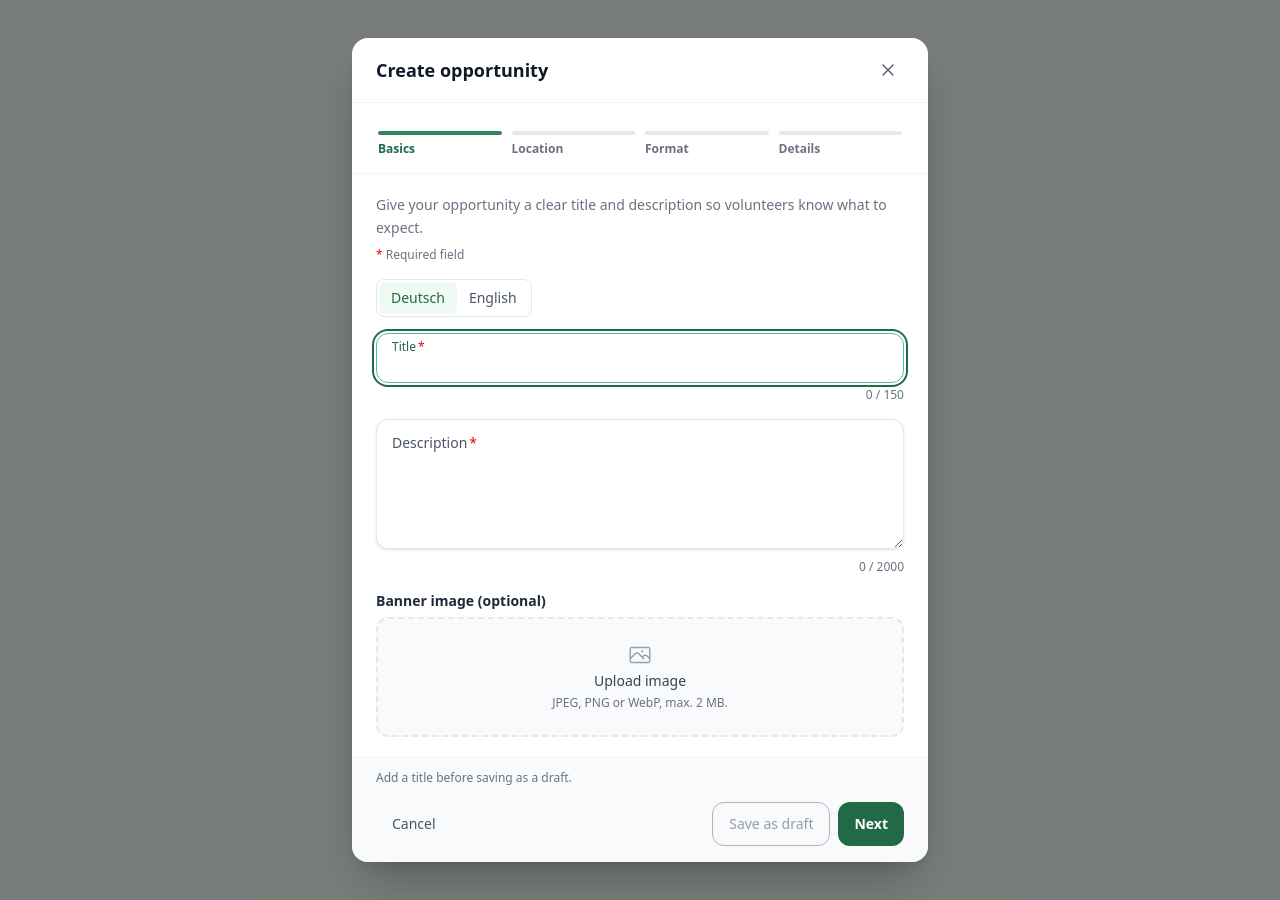
Scenario: create-opportunity wizard: language tab error indicator (#2234) › exposes the error on the German tab through its accessible name, not colour alone
Click the button with test id "modal-next" at coordinates (871, 824), box top-left (838, 802), bottom-right (904, 846)
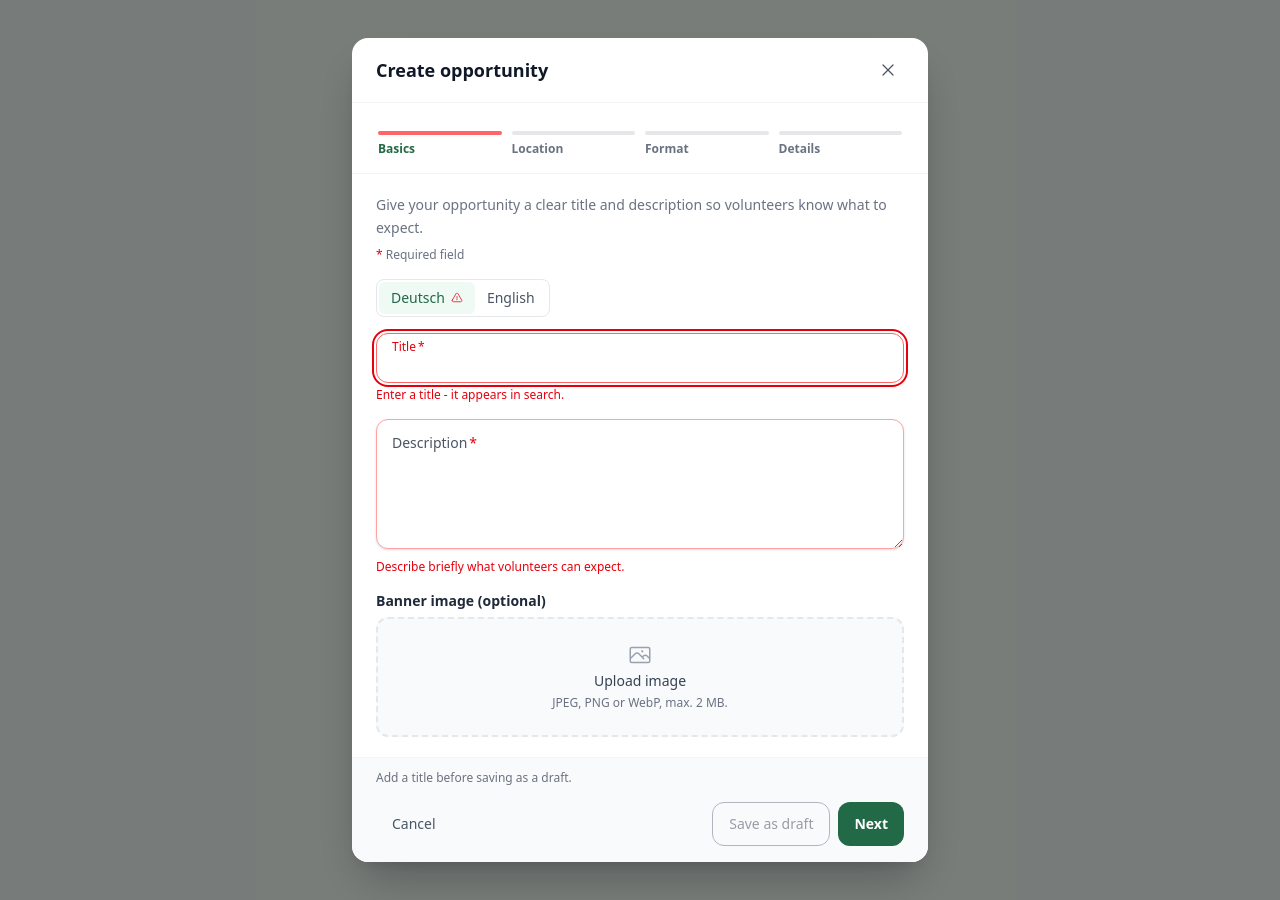
expect the message "Enter a title - it appears in search." is shown: met, box top-left (376, 386), bottom-right (564, 403)
